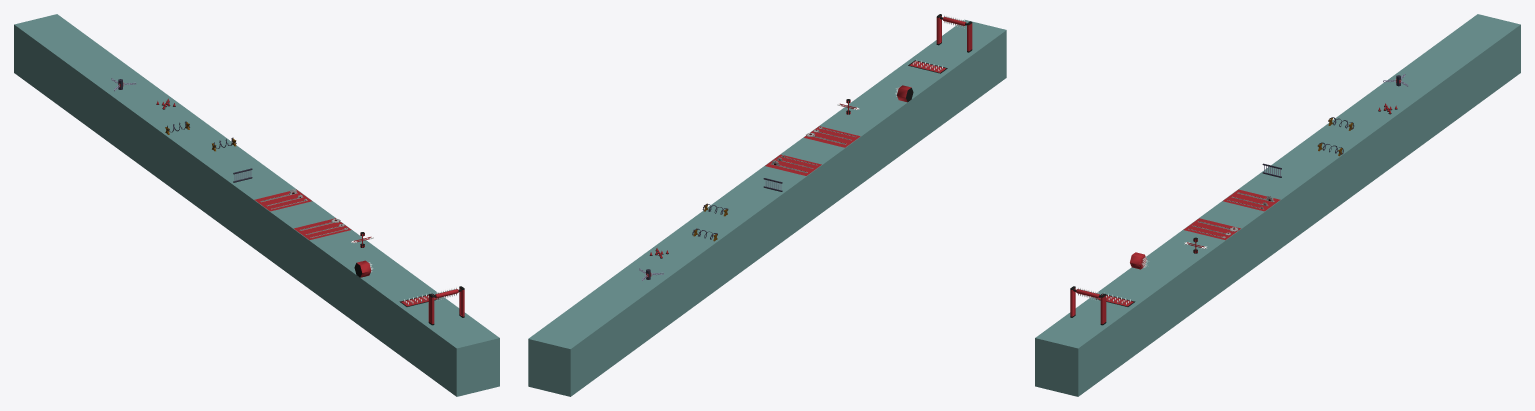
File: OLD BUT USED.fbx
The picture shows the model from 3 angles, left to right: view 1: azimuth 30°, elevation 25°; view 2: azimuth 150°, elevation 25°; view 3: azimuth 330°, elevation 25°; orthographic projection.
Parts seen in each view (by area): view 1: Parkur; view 2: Parkur; view 3: Parkur.
Part boxes in pixels (x1,y1,x2,y2): Parkur: [14, 14, 499, 396]; Parkur: [528, 19, 1006, 396]; Parkur: [1035, 14, 1520, 396].
Size of the model in its own units: 414 by 705 by 7076.
